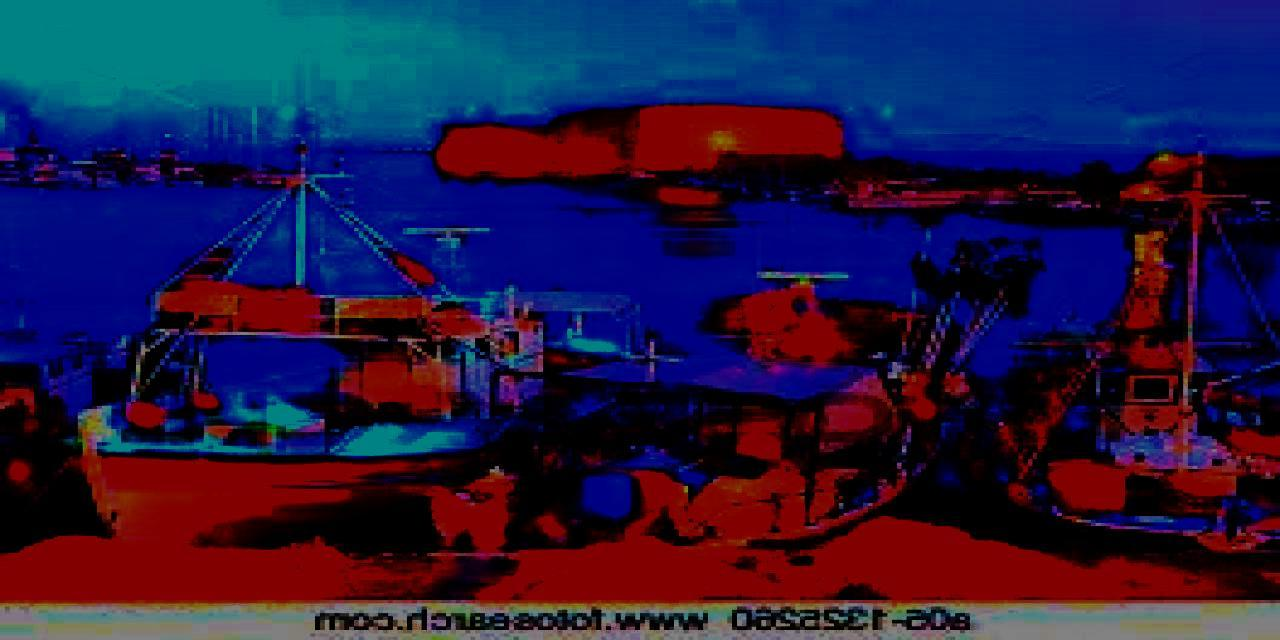Kules: (431, 103, 856, 181)
